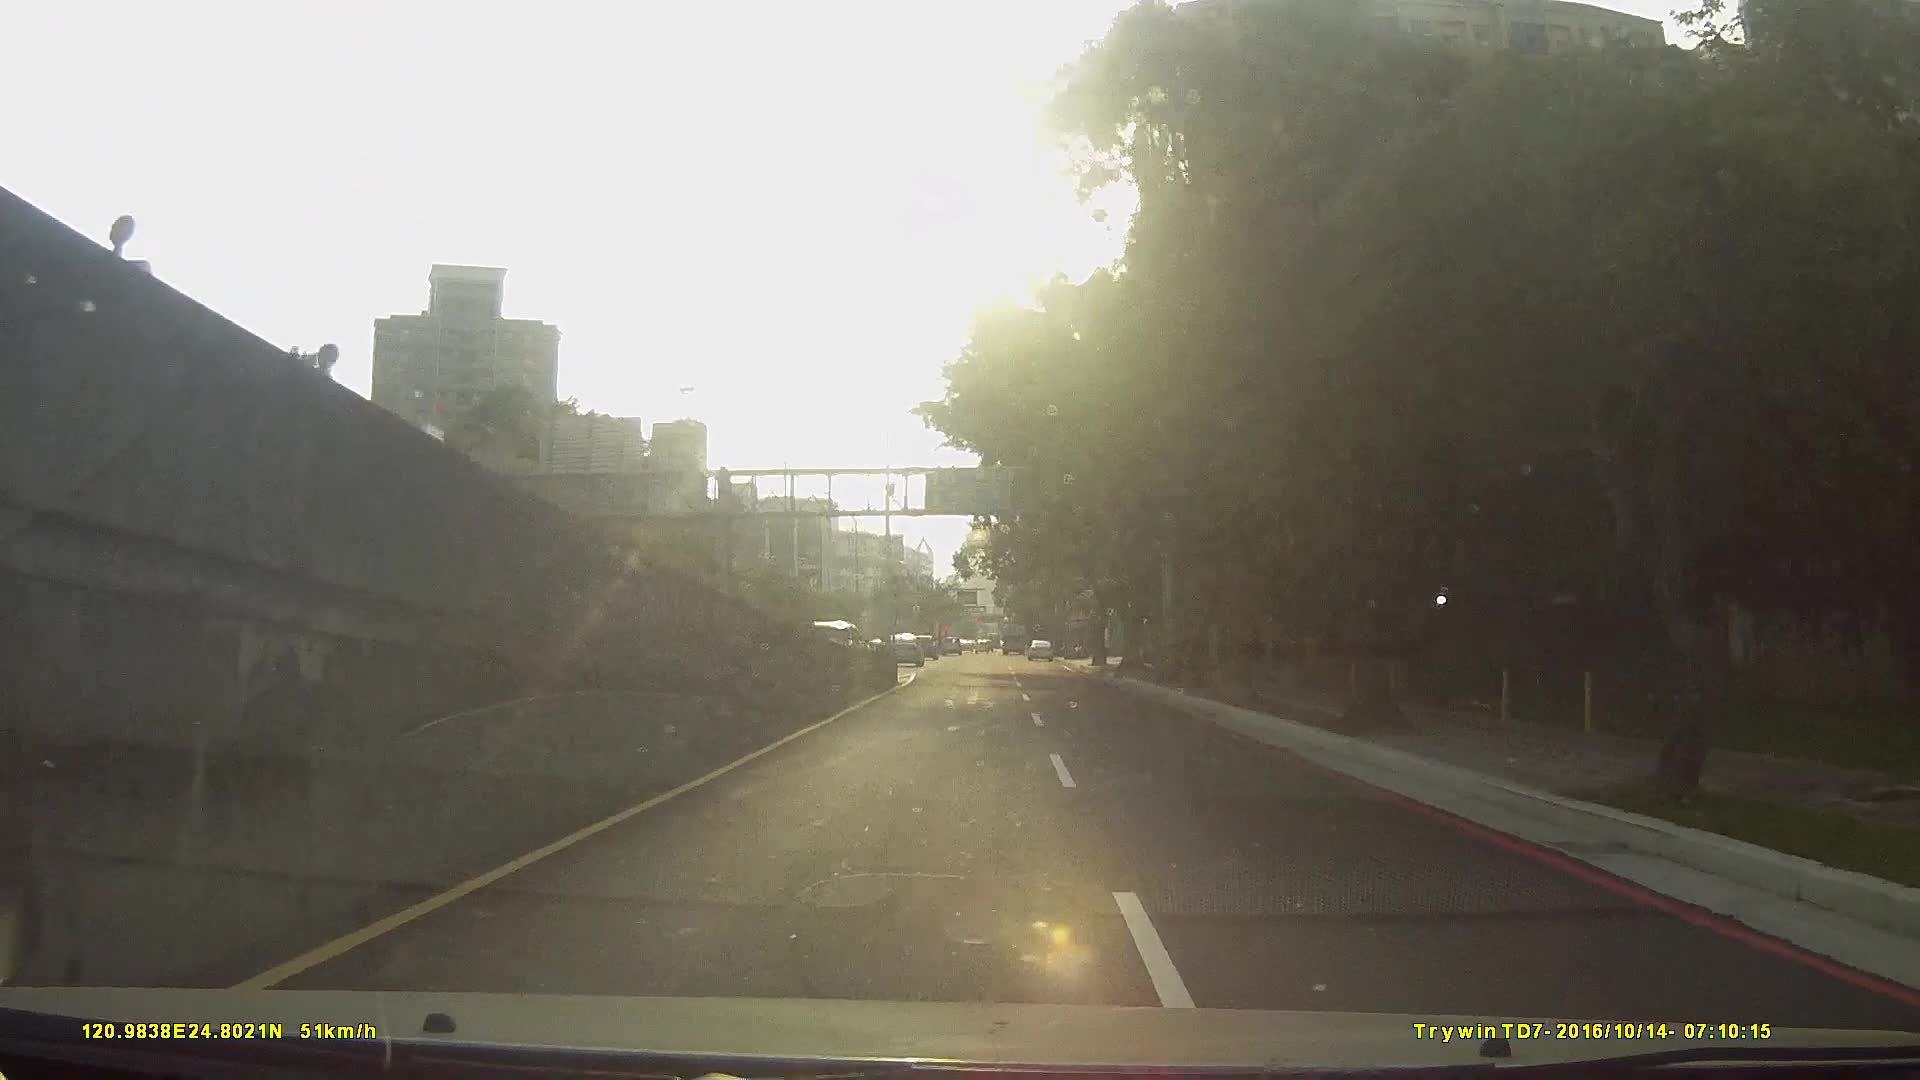vehicle: (880, 630, 924, 666), (1000, 615, 1026, 651), (1025, 636, 1054, 658)
